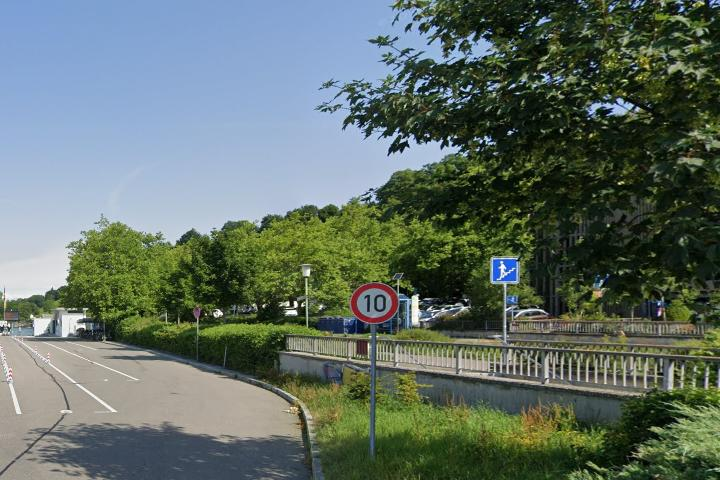traffic_sign: (348, 281, 400, 324), (490, 256, 519, 283)
